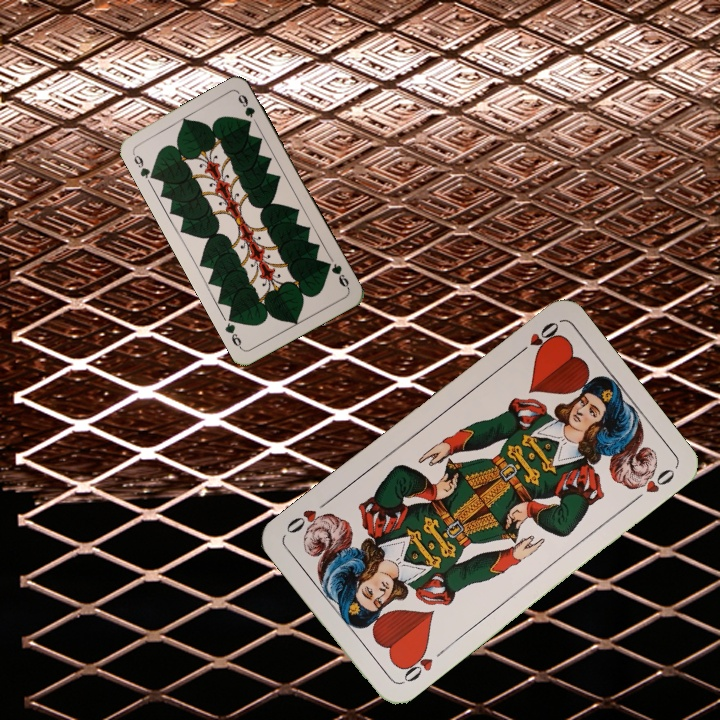G9: (321, 258, 352, 292), (128, 148, 159, 182)
HO: (511, 317, 562, 360), (397, 644, 448, 686)
